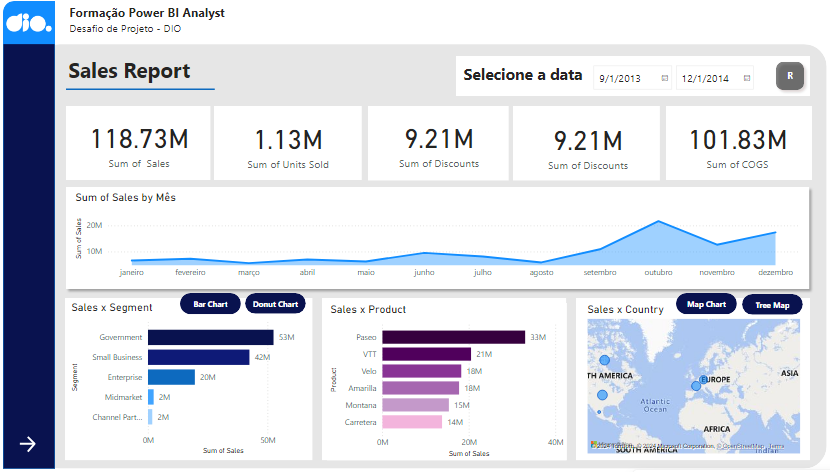

This screenshot's page, from the dashboard's own definition file:
{"tool":"powerbi","page":{"name":"Sales Report","canvas":[1280,720],"ordinal":0},"visuals":[{"type":"shape","box":[51.7,66.7,1215,653.3],"z":0},{"type":"slicer","fields":{"Values":["financials.Date"]},"box":[894.7,90.3,267,55],"z":0,"group":"g2"},{"type":"shape","box":[96.3,123.5,229.1,25.5],"z":0,"group":"g5"},{"type":"shape","box":[96.7,162.2,222.5,114.2],"z":0,"group":"g1"},{"type":"shape","box":[0,21.7,80,698.3],"z":1000},{"type":"textbox","box":[95,78.3,205.8,59.2],"z":1000,"group":"g5"},{"type":"textbox","box":[696.9,91.7,228.3,55],"z":1000,"group":"g2"},{"type":"shape","box":[325,161.7,227.5,114.2],"z":1000,"group":"g1"},{"type":"clusteredBarChart","title":"Sales x Segment","fields":{"Category":["financials.Segment"],"Y":["Sum(financials. Sales)"]},"box":[100,461,372,241],"z":1000,"group":"g4"},{"type":"treemap","title":"Sales x Country","fields":{"Group":["financials.Country"],"Values":["Sum(financials. Sales)"]},"box":[891.7,467.5,338.3,235.9],"z":1000,"group":"g3"},{"type":"map","title":"Sales x Country","fields":{"Size":["Sum(financials. Sales)"],"Category":["financials.Country"]},"box":[893.4,465,338.3,236.7],"z":1125,"group":"g3"},{"type":"actionButton","title":"Botão - map","box":[1035.5,449.1,93.6,32.7],"z":1250,"group":"g3"},{"type":"actionButton","title":"Botão - tree map","box":[1136.4,450,93.6,31.8],"z":1500,"group":"g3"},{"type":"shape","box":[0,0,80,67.1],"z":2000},{"type":"actionButton","box":[1180.7,85,61.5,61.5],"z":2000,"group":"g2"},{"type":"shape","box":[560.6,162.3,216.7,115],"z":2000,"group":"g1"},{"type":"actionButton","title":"Botão - donut","box":[371.8,449.1,93.6,31.8],"z":2250,"group":"g4"},{"type":"actionButton","title":"Botão - bar","box":[271.8,449.1,93.6,32.7],"z":2500,"group":"g4"},{"type":"image","title":"logo_dio","box":[0,5.9,80,53.5],"z":3000},{"type":"shape","box":[1019.2,161.8,225,114.2],"z":3000,"group":"g1"},{"type":"shape","box":[80,0,1200,67.1],"z":4000},{"type":"shape","box":[784.6,162.1,226.2,115],"z":4000,"group":"g1"},{"type":"group","id":"g1","title":"Cartões","box":[96.7,161.7,1147.5,115.6],"z":5000},{"type":"card","fields":{"Values":["Sum(financials.COGS)"]},"box":[1028.4,166.7,201.7,105],"z":5000,"group":"g1"},{"type":"card","fields":{"Values":["Sum(financials.Discounts)"]},"box":[568.4,165,203.3,105],"z":6000,"group":"g1"},{"type":"shape","box":[88.3,276.7,1161.7,175],"z":6000},{"type":"card","fields":{"Values":["Sum(financials.Units Sold)"]},"box":[336.7,168.4,203.3,101.7],"z":7000,"group":"g1"},{"type":"shape","box":[95,456.2,381.2,250],"z":7000},{"type":"card","fields":{"Values":["Sum(financials. Sales)"]},"box":[106.7,166.7,203.3,103.3],"z":8000,"group":"g1"},{"type":"shape","box":[491.2,456.2,376.2,250],"z":8000},{"type":"card","fields":{"Values":["Sum(financials.Discounts)"]},"box":[798.4,168.4,203.3,105],"z":9000,"group":"g1"},{"type":"shape","box":[881.2,456.2,360,250],"z":9000},{"type":"areaChart","fields":{"Category":["financials.Date.Variation.Hierarquia de datas.Mês"],"Y":["Sum(financials. Sales)"]},"box":[106.7,291.7,1123.3,143.3],"z":10000},{"type":"clusteredBarChart","title":"Sales x Product","fields":{"Category":["financials.Product"],"Y":["Sum(financials. Sales)"]},"box":[498,464,369,242],"z":11000},{"type":"group","id":"g2","title":"Botao reset","box":[696.9,85,545.4,61.7],"z":12000},{"type":"group","id":"g3","title":"Sales por pais grupo","box":[891.7,449.1,340,254.2],"z":13000},{"type":"group","id":"g4","title":"sales por Segmento grupo","box":[97,449.1,379.1,257.2],"z":14000},{"type":"group","id":"g5","title":"Tittle Report","box":[95,78.3,230,70],"z":15000},{"type":"actionButton","box":[12.5,656.7,54.2,50],"z":16000},{"type":"textbox","box":[96.2,0,300,66.2],"z":17000}]}

Visuals, with their boxes on the page's 1280x720 design canvas (x1, y1, x2, y2). These are canvas units, not pixel positions in the 830x472 screenshot, which may show the page scaled, cropped or inside an application window:
shape: select_region(52, 67, 1267, 720)
slicer - financials.Date: select_region(895, 90, 1162, 145)
shape: select_region(96, 124, 325, 149)
shape: select_region(97, 162, 319, 276)
shape: select_region(0, 22, 80, 720)
textbox: select_region(95, 78, 301, 138)
textbox: select_region(697, 92, 925, 147)
shape: select_region(325, 162, 552, 276)
"Sales x Segment" clusteredBarChart: select_region(100, 461, 472, 702)
"Sales x Country" treemap: select_region(892, 468, 1230, 703)
"Sales x Country" map: select_region(893, 465, 1232, 702)
"Botão - map" actionButton: select_region(1036, 449, 1129, 482)
"Botão - tree map" actionButton: select_region(1136, 450, 1230, 482)
shape: select_region(0, 0, 80, 67)
actionButton: select_region(1181, 85, 1242, 146)
shape: select_region(561, 162, 777, 277)
"Botão - donut" actionButton: select_region(372, 449, 465, 481)
"Botão - bar" actionButton: select_region(272, 449, 365, 482)
"logo_dio" image: select_region(0, 6, 80, 59)
shape: select_region(1019, 162, 1244, 276)
shape: select_region(80, 0, 1280, 67)
shape: select_region(785, 162, 1011, 277)
"Cartões" group: select_region(97, 162, 1244, 277)
card - Sum(financials.COGS): select_region(1028, 167, 1230, 272)
card - Sum(financials.Discounts): select_region(568, 165, 772, 270)
shape: select_region(88, 277, 1250, 452)
card - Sum(financials.Units Sold): select_region(337, 168, 540, 270)
shape: select_region(95, 456, 476, 706)
card - Sum(financials. Sales): select_region(107, 167, 310, 270)
shape: select_region(491, 456, 867, 706)
card - Sum(financials.Discounts): select_region(798, 168, 1002, 273)
shape: select_region(881, 456, 1241, 706)
areaChart - financials.Date.Variation.Hierarquia de datas.Mês x Sum(financials. Sales): select_region(107, 292, 1230, 435)
"Sales x Product" clusteredBarChart: select_region(498, 464, 867, 706)
"Botao reset" group: select_region(697, 85, 1242, 147)
"Sales por pais grupo" group: select_region(892, 449, 1232, 703)
"sales por Segmento grupo" group: select_region(97, 449, 476, 706)
"Tittle Report" group: select_region(95, 78, 325, 148)
actionButton: select_region(12, 657, 67, 707)
textbox: select_region(96, 0, 396, 66)
